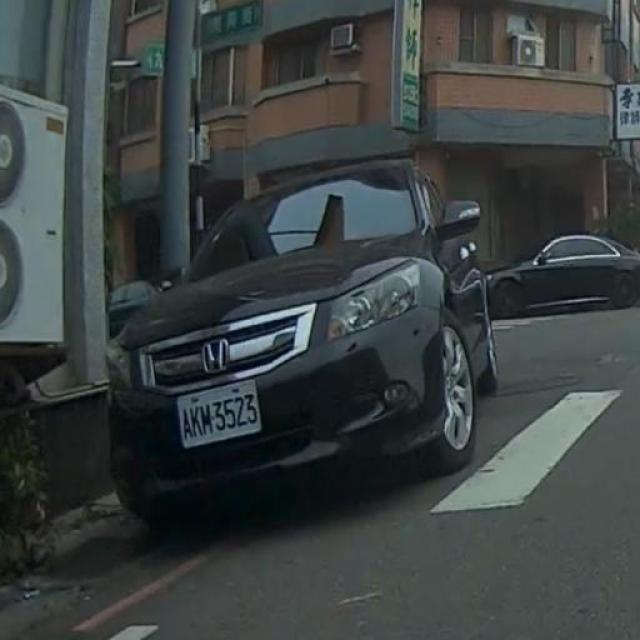illegalparking: (88, 168, 536, 538)
